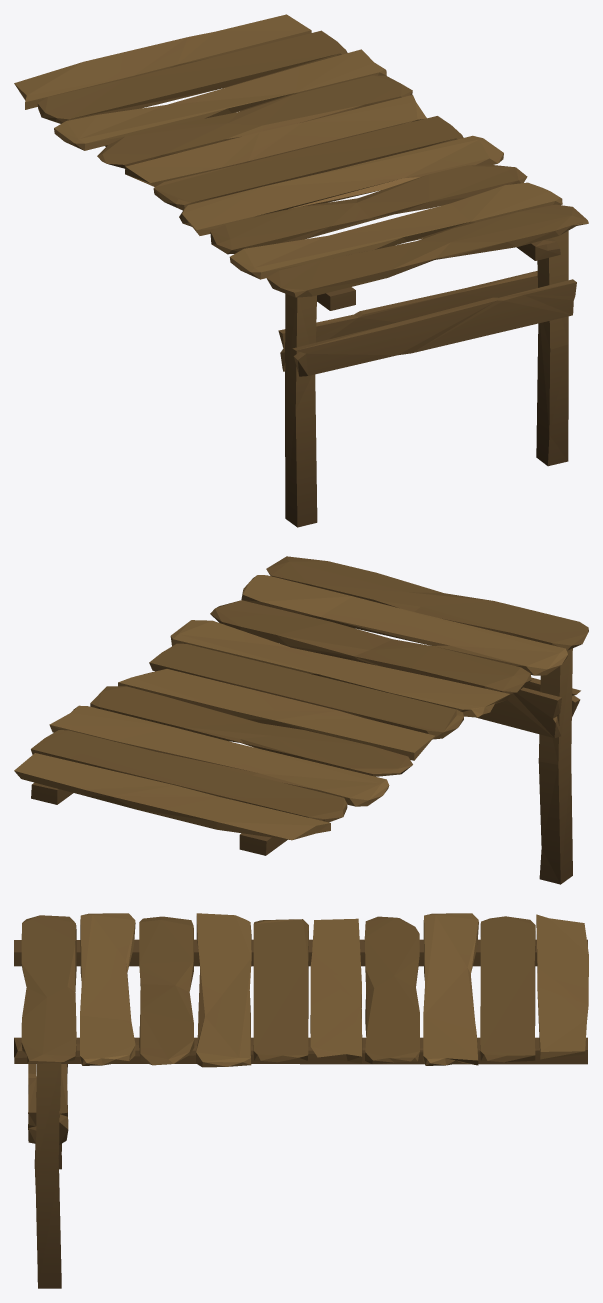
The model's file is ModularWood_02.fbx.
3 views of the same model, one above another, from view 1: azimuth 30°, elevation 25°; view 2: azimuth 150°, elevation 25°; view 3: azimuth 270°, elevation 25° (orthographic). The views are drawn at different scales.
Visible parts, largest first — view 1: ModularWood_02; view 2: ModularWood_02; view 3: ModularWood_02.
Part boxes in pixels (<box>): ModularWood_02: <box>14,14,588,527</box>; ModularWood_02: <box>14,556,588,884</box>; ModularWood_02: <box>14,913,588,1288</box>.
Bounding box in the file's own units: 1.8 × 1.33 × 2.9.
